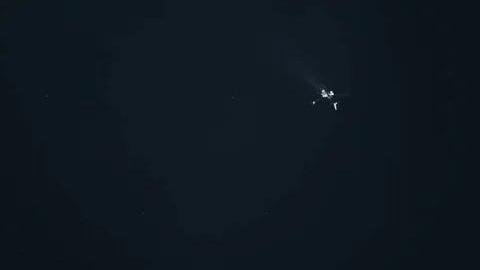Plane: (305, 88, 355, 118)
